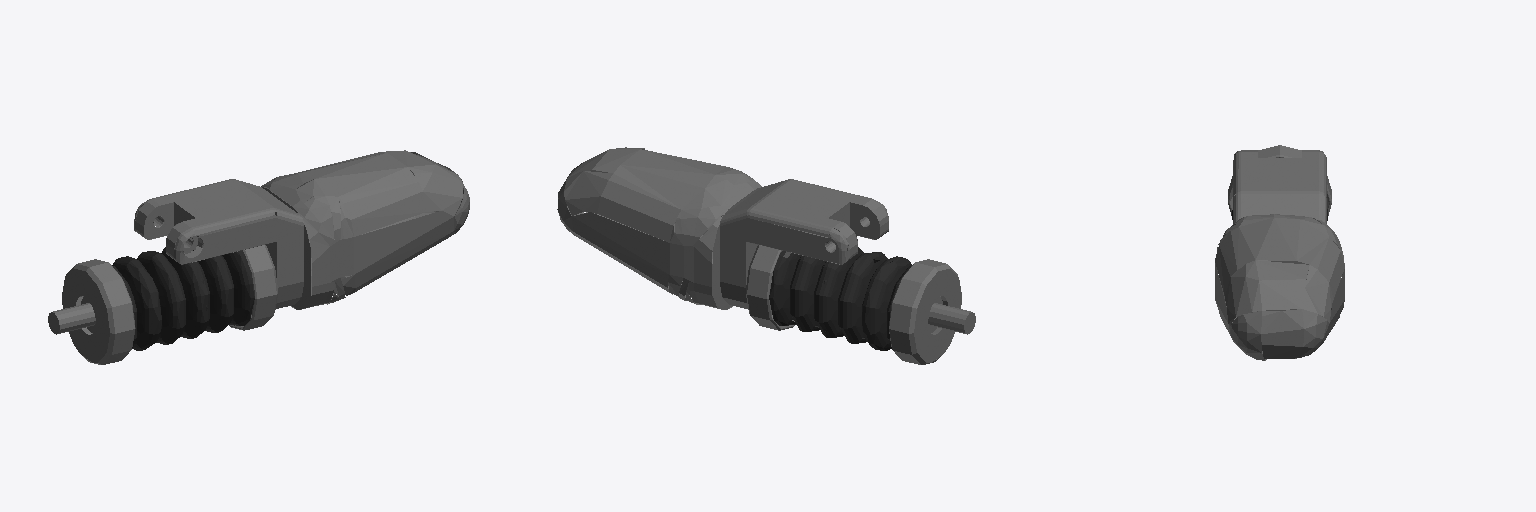
3 renders of one model, left to right at view 1: azimuth 30°, elevation 25°; view 2: azimuth 150°, elevation 25°; view 3: azimuth 270°, elevation 25°, orthographic.
Bounding box in the file's own units: 0.06 × 0.0186 × 0.0167.
Materials: 1 (1 with a texture image).